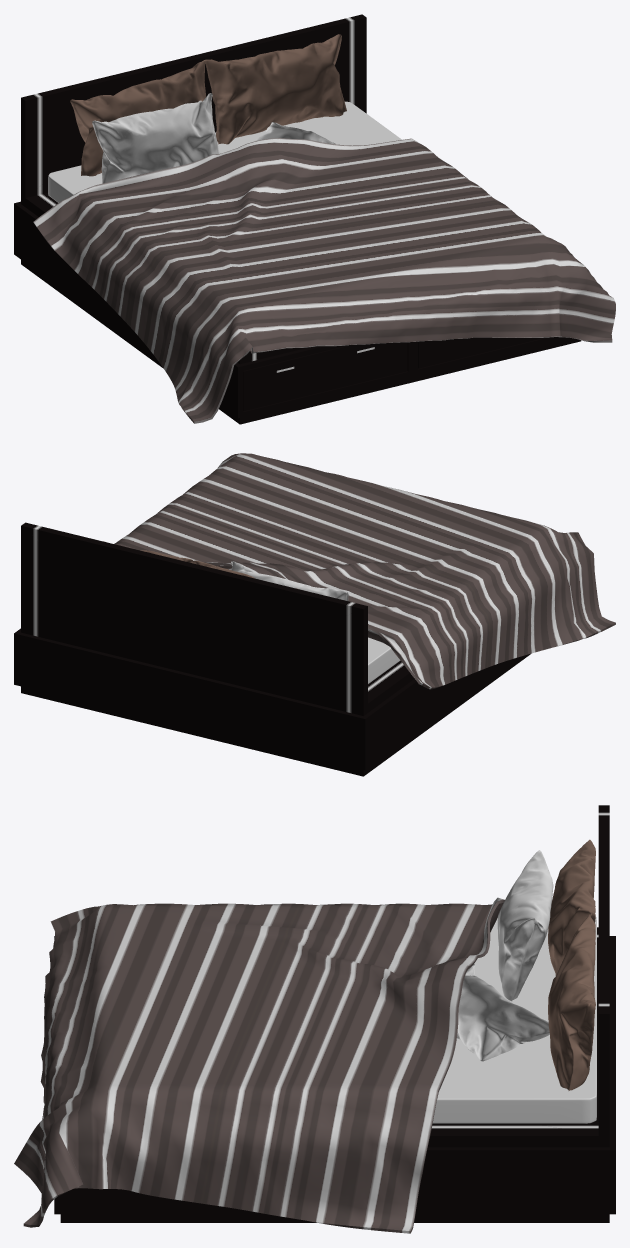
Rendered from couple_bed.glb.
3 renders of one model, top to bottom at view 1: azimuth 30°, elevation 25°; view 2: azimuth 150°, elevation 25°; view 3: azimuth 270°, elevation 25°, orthographic. The views are drawn at different scales.
Parts seen in each view (by area): view 1: Bed; view 2: Bed; view 3: Bed.
Boxes of the visible parts, left/top/right/bottom form: Bed: left=14, top=14, right=615, bottom=424; Bed: left=14, top=453, right=615, bottom=776; Bed: left=14, top=805, right=615, bottom=1233.
Bounding box in the file's own units: 2.11 × 0.82 × 2.14.
Materials: 1 (1 with a texture image).
